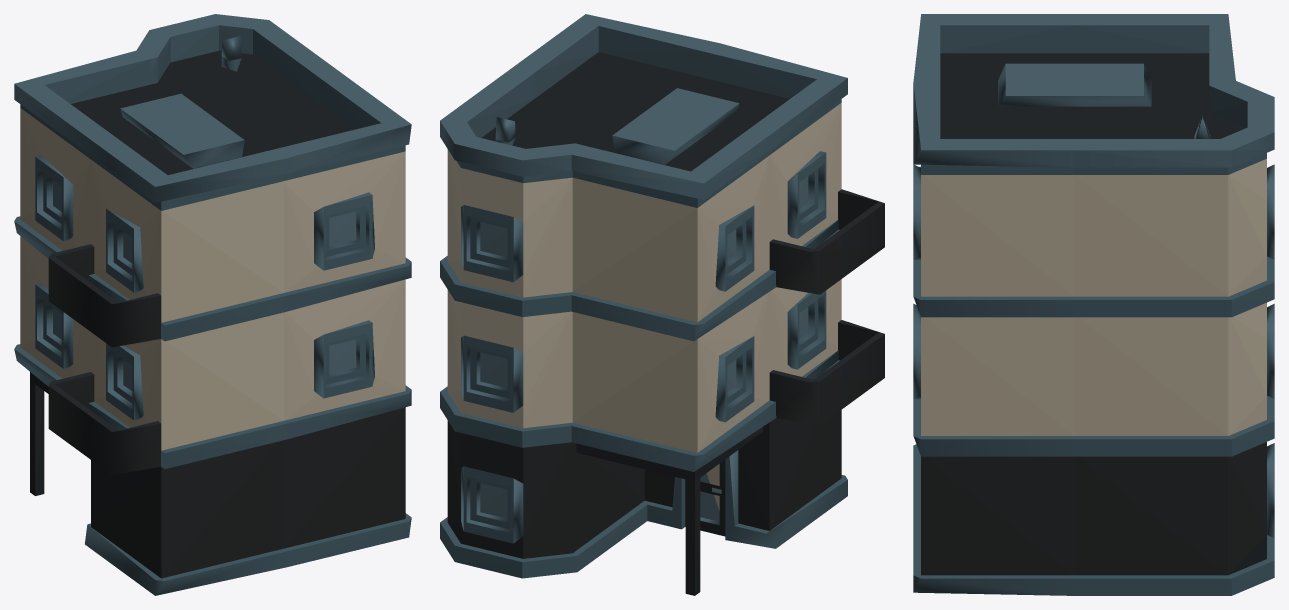
The model's file is building-b.low.a2a81e47.glb.
3 renders of one model, left to right at view 1: azimuth 30°, elevation 25°; view 2: azimuth 150°, elevation 25°; view 3: azimuth 270°, elevation 25°, orthographic. The views are drawn at different scales.
Visible parts, largest first — view 1: building-b; view 2: building-b; view 3: building-b.
Part boxes in pixels (<box>): building-b: <box>14,14,411,595</box>; building-b: <box>440,14,884,595</box>; building-b: <box>913,14,1274,595</box>.
Bounding box in the file's own units: 11.64 × 15.52 × 11.28.
